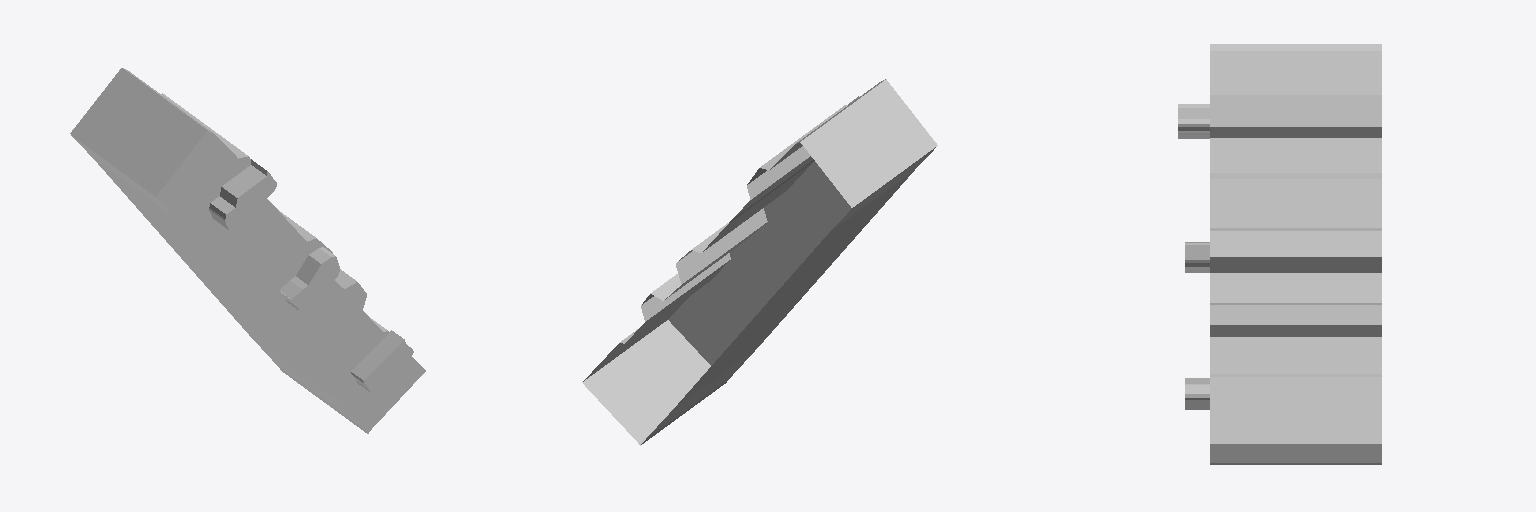
The model's file is TextureModel_BLD_Body_0.obj.
The picture shows the model from 3 angles: view 1: azimuth 30°, elevation 25°; view 2: azimuth 150°, elevation 25°; view 3: azimuth 270°, elevation 25°; orthographic projection.
Size of the model in its own units: 47.38 by 57.5 by 31.